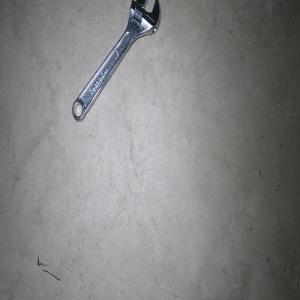Wrench: (72, 0, 160, 121)
